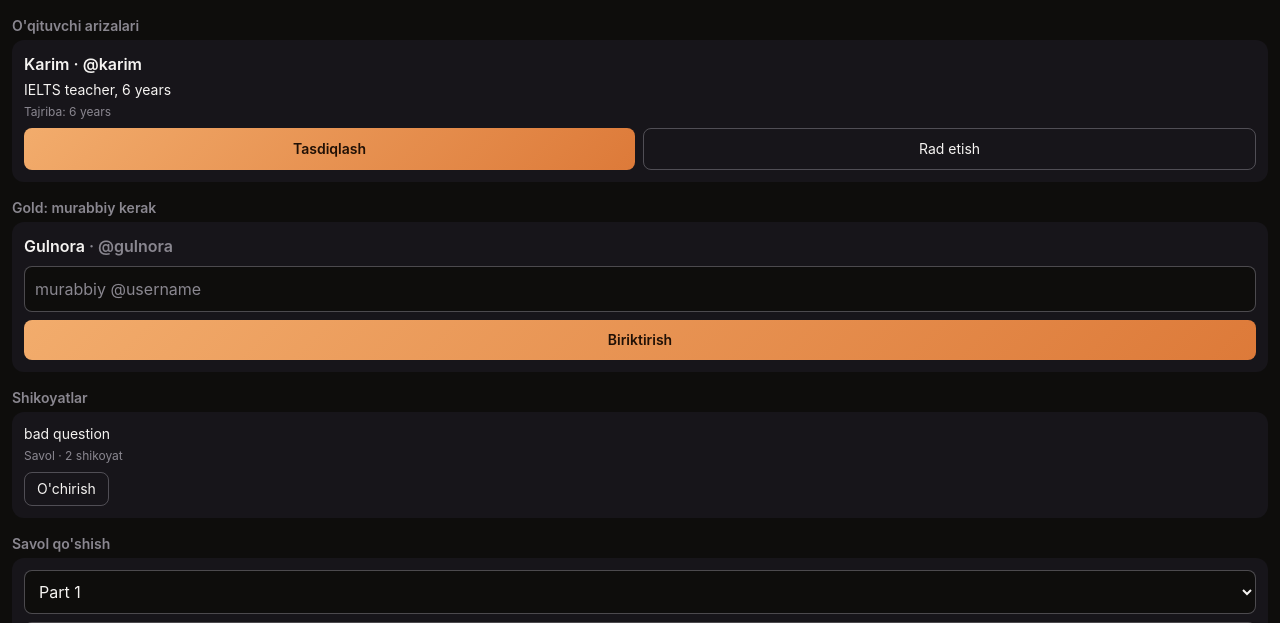
Test: AdminScreen › lists reported content and removes it
This screenshot has width=1280, height=623.
expect the text "bad question" is shown: met, box [24,425,110,442]
Click the button "O'chirish".
click(66, 489)  # box [24,472,109,506]
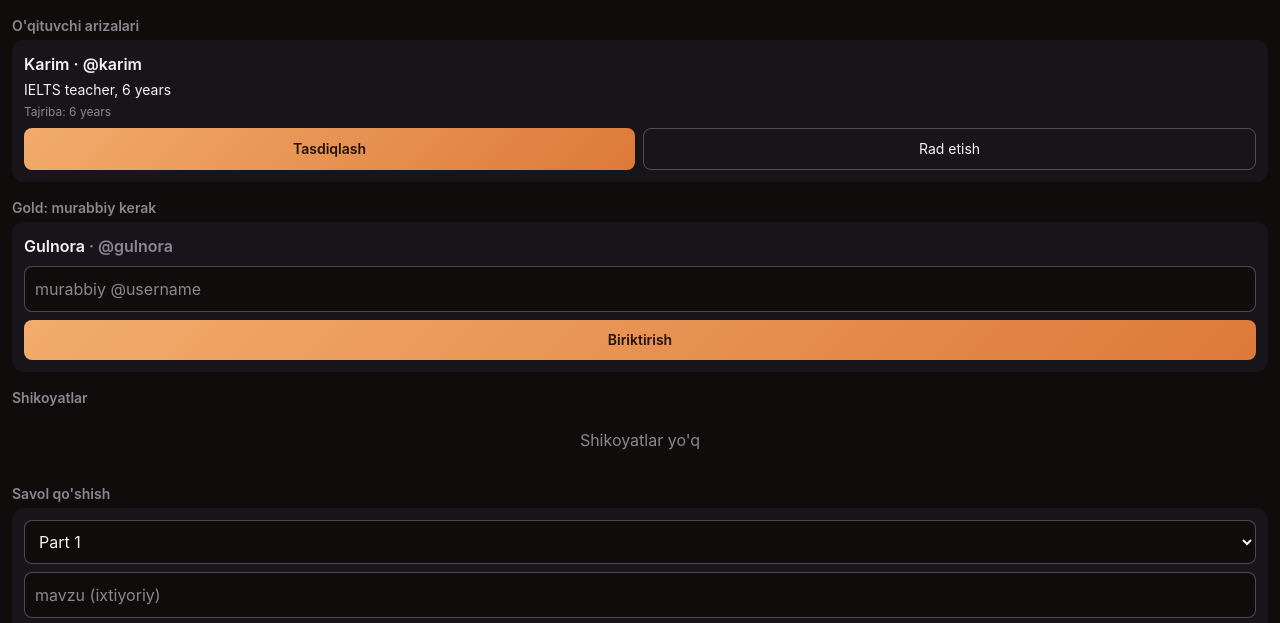
expect the text "bad question" is gone: met
